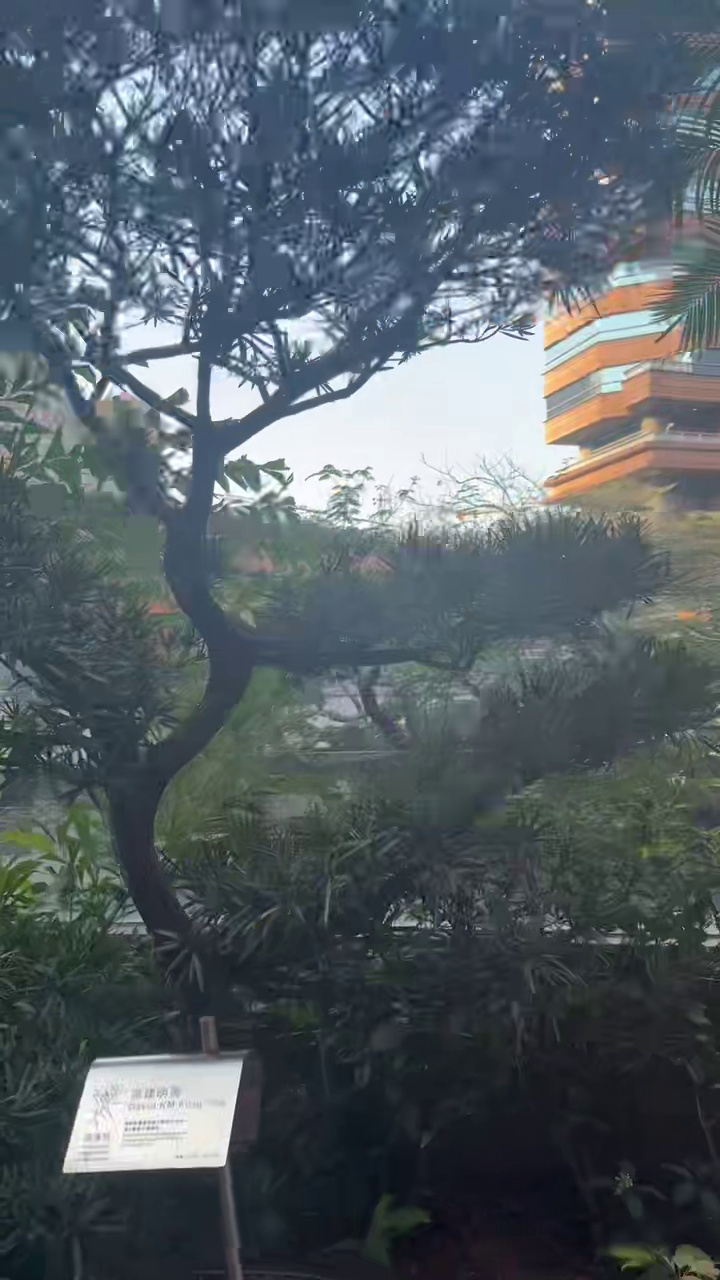Podocarpus macrophyllus: (0, 0, 667, 945)
